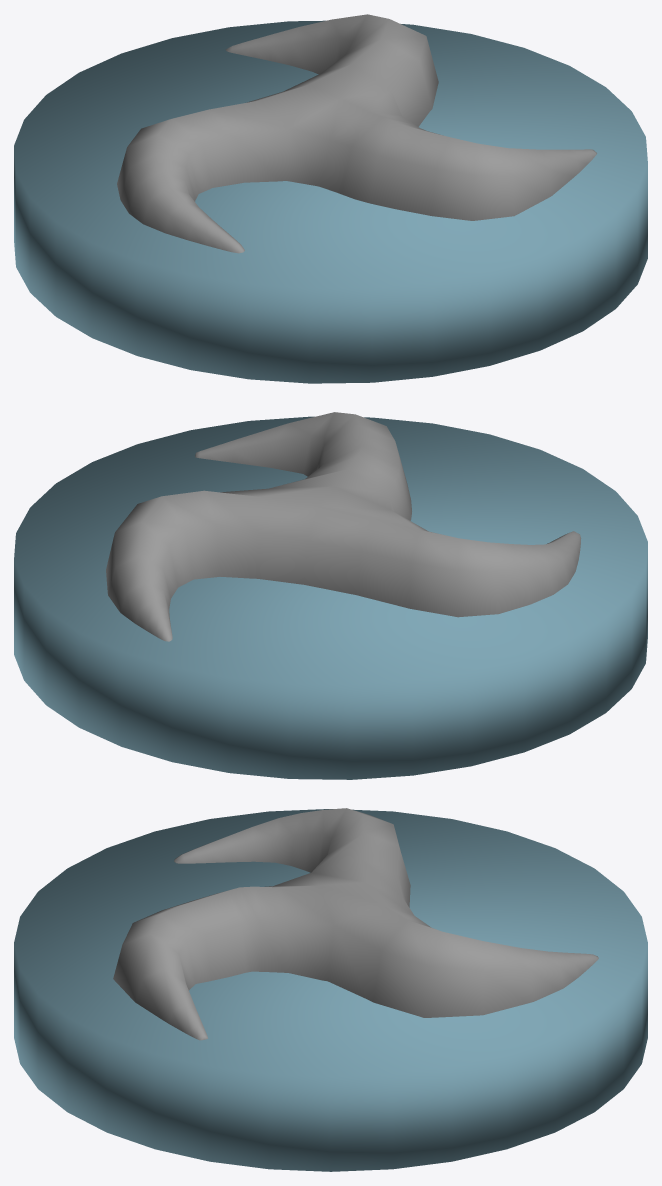
Rendered from Cuchilla.fbx.
The picture shows the model from 3 angles, top to bottom: view 1: azimuth 30°, elevation 25°; view 2: azimuth 150°, elevation 25°; view 3: azimuth 270°, elevation 25°; orthographic projection.
Parts seen in each view (by area): view 1: Cuchilla; view 2: Cuchilla; view 3: Cuchilla.
Part boxes in pixels (bbox=[...]): Cuchilla: bbox=[14, 14, 647, 383]; Cuchilla: bbox=[14, 412, 647, 779]; Cuchilla: bbox=[14, 808, 647, 1171].
Bounding box in the file's own units: 502 × 141 × 502.
